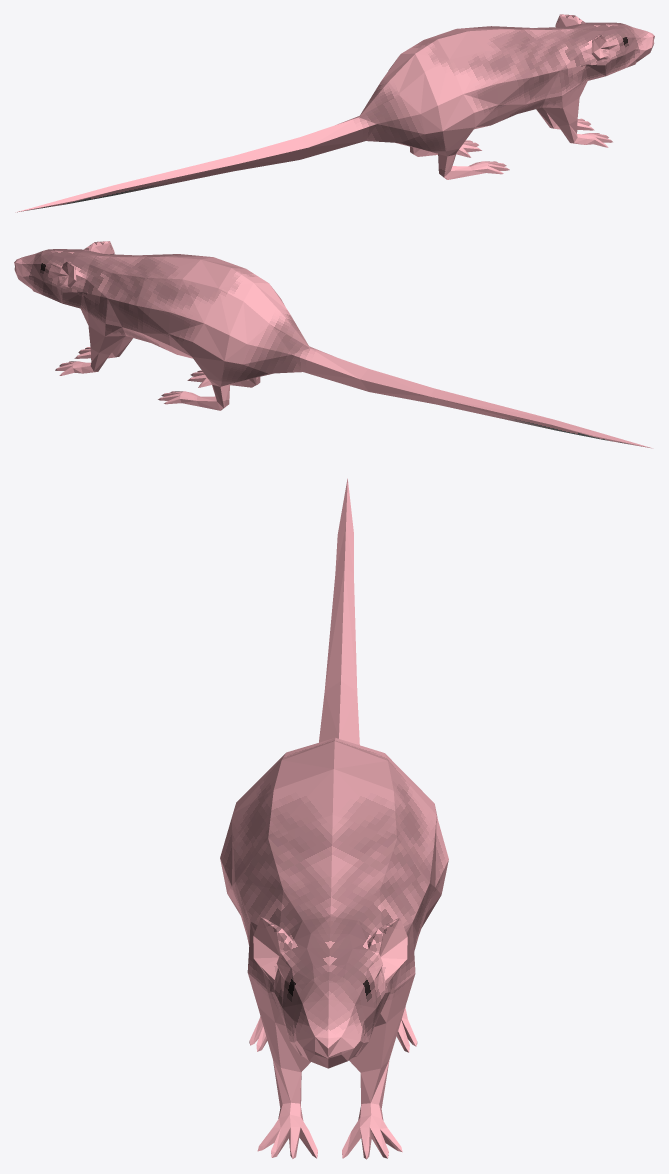
The model's file is rat.glb.
3 views of the same model, one above another, from view 1: azimuth 30°, elevation 25°; view 2: azimuth 150°, elevation 25°; view 3: azimuth 270°, elevation 25° (orthographic). The views are drawn at different scales.
Visible parts, largest first — view 1: grp1; view 2: grp1; view 3: grp1.
Boxes of the visible parts, x1,y1,x2,y2 form: grp1: (15,14,654,212); grp1: (14,241,653,448); grp1: (220,478,448,1159).
Bounding box in the file's own units: 1.44 × 0.2863 × 0.2248.
1 material, 1 textured.
